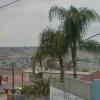Palm tree: (35, 4, 87, 74)
